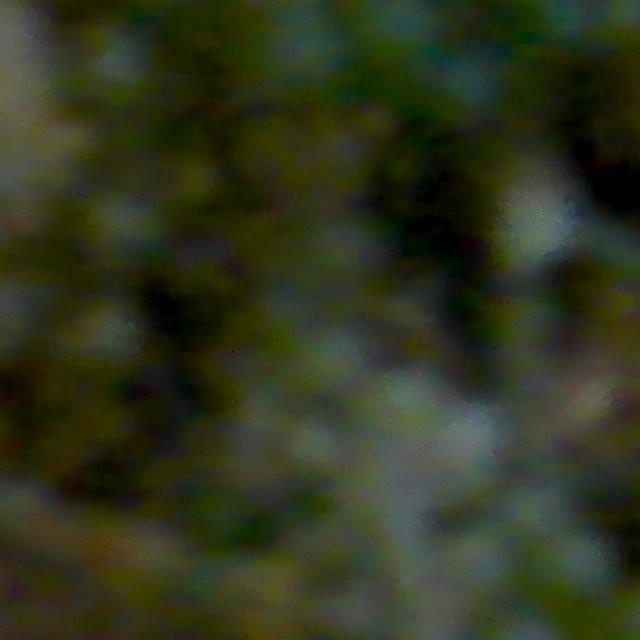SeaGrape: (491, 174, 583, 272), (428, 406, 504, 506), (76, 24, 161, 110), (362, 364, 448, 443), (428, 44, 508, 124), (83, 188, 166, 265), (67, 297, 147, 376), (308, 209, 390, 283), (535, 526, 615, 601), (295, 320, 374, 395), (443, 524, 519, 601), (358, 0, 441, 61), (502, 475, 574, 544), (492, 294, 562, 362), (281, 412, 350, 480), (170, 153, 222, 207)
